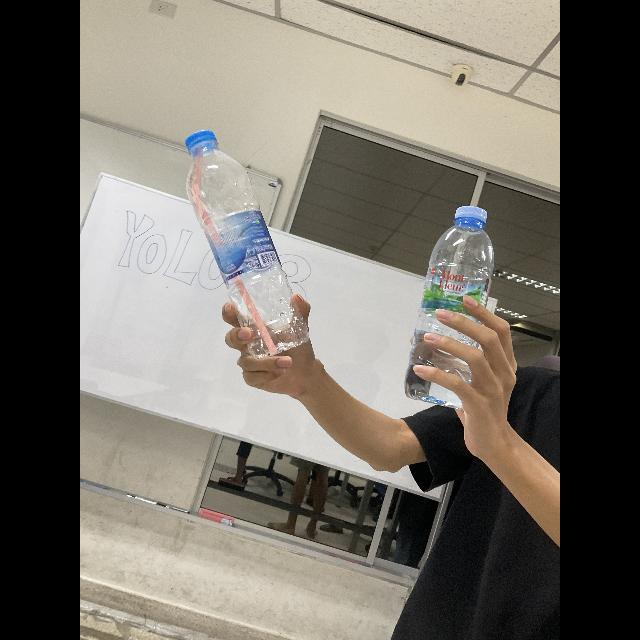plastic_bottle: (187, 128, 309, 360), (404, 204, 496, 408)
plastic_bottle_cap: (454, 204, 488, 232), (186, 128, 218, 152)
straw: (187, 156, 281, 358)
